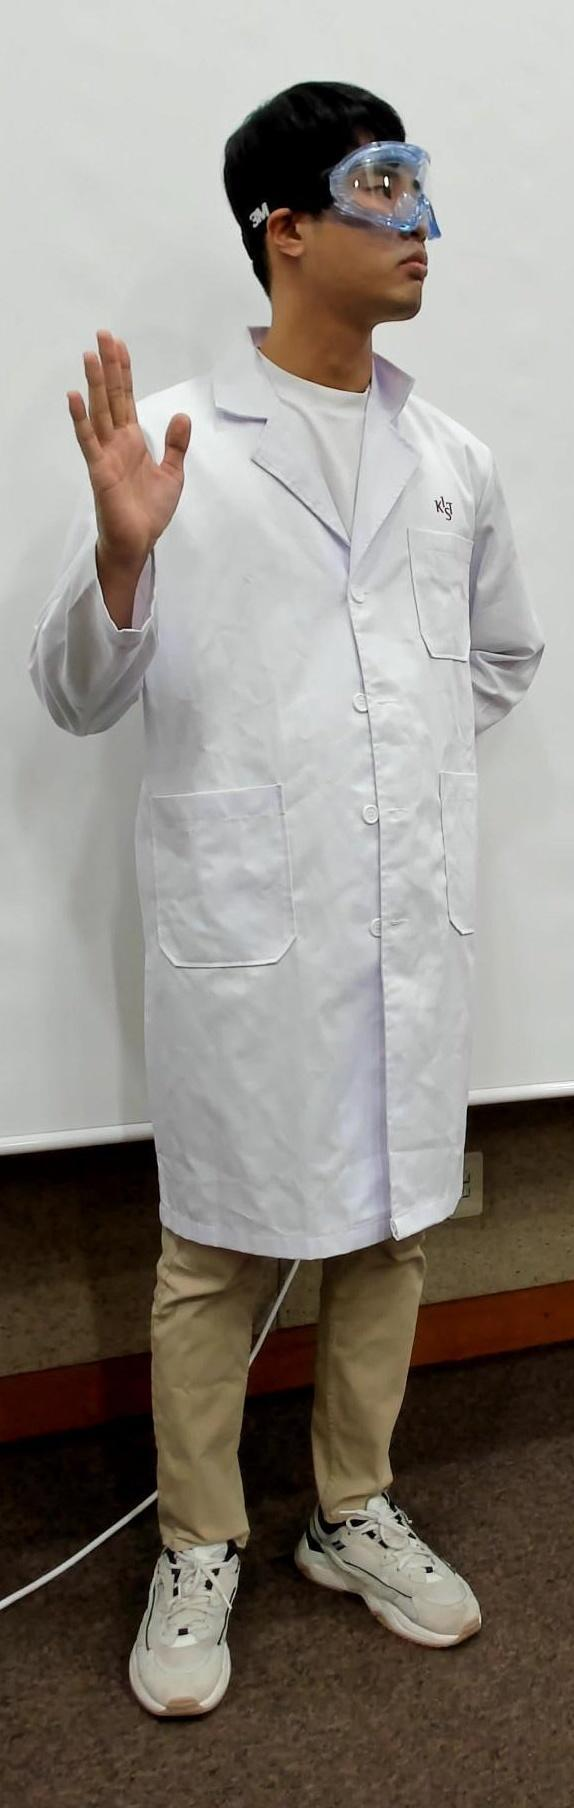lab_coat: (150, 447, 497, 1234)
